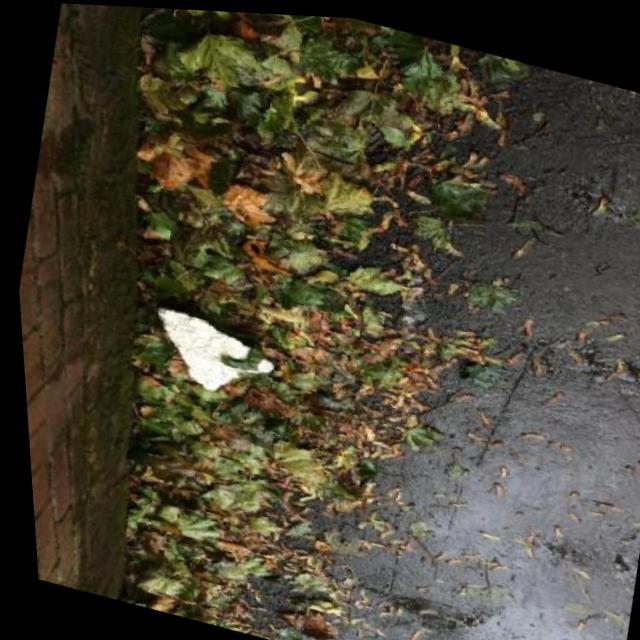foam: (142, 305, 284, 407)
